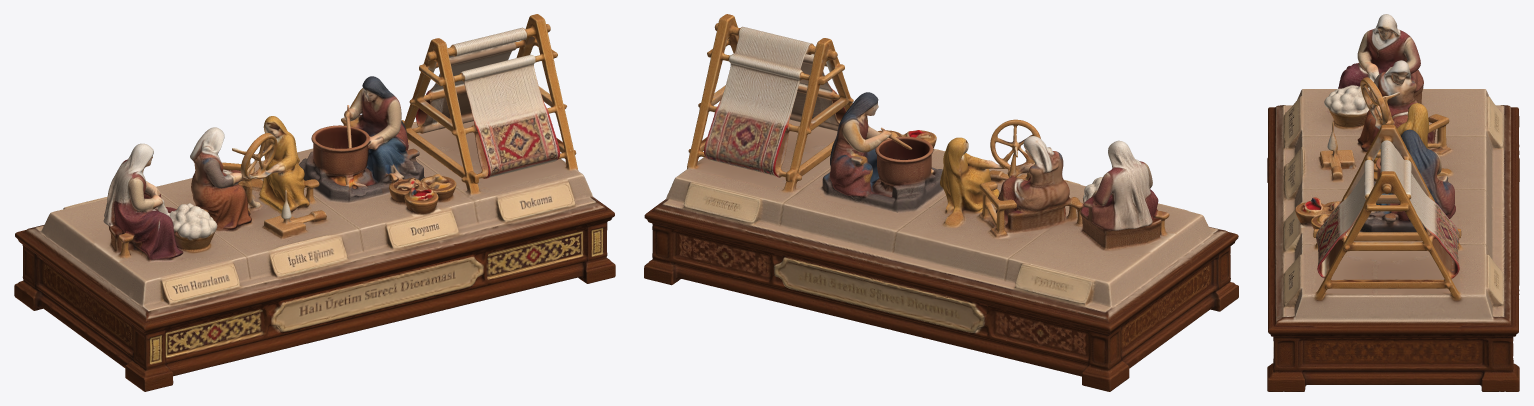
File: uretim_sureci.glb
The picture shows the model from 3 angles, left to right: view 1: azimuth 30°, elevation 25°; view 2: azimuth 150°, elevation 25°; view 3: azimuth 270°, elevation 25°; orthographic projection. The views are drawn at different scales.
Bounding box in the file's own units: 1.9 × 0.8432 × 0.911.
1 material, 1 textured.
